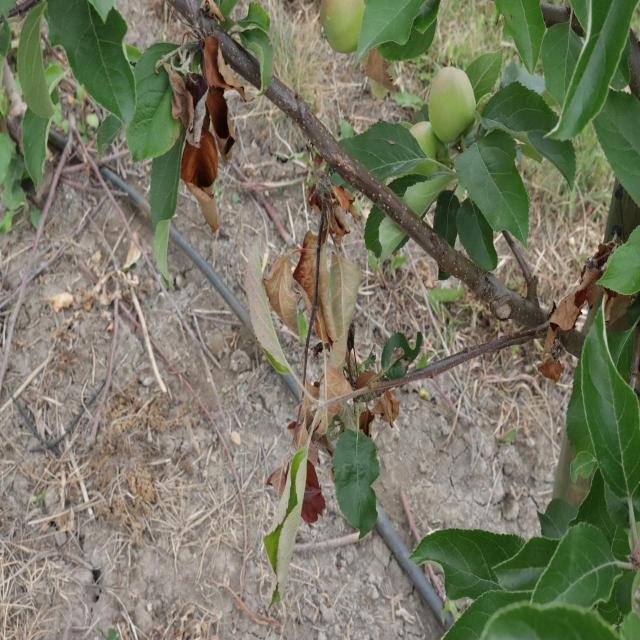-FireBlight-: (280, 159, 358, 404), (162, 22, 242, 238), (294, 404, 332, 533), (538, 302, 578, 384), (362, 368, 400, 426), (592, 240, 614, 316)
